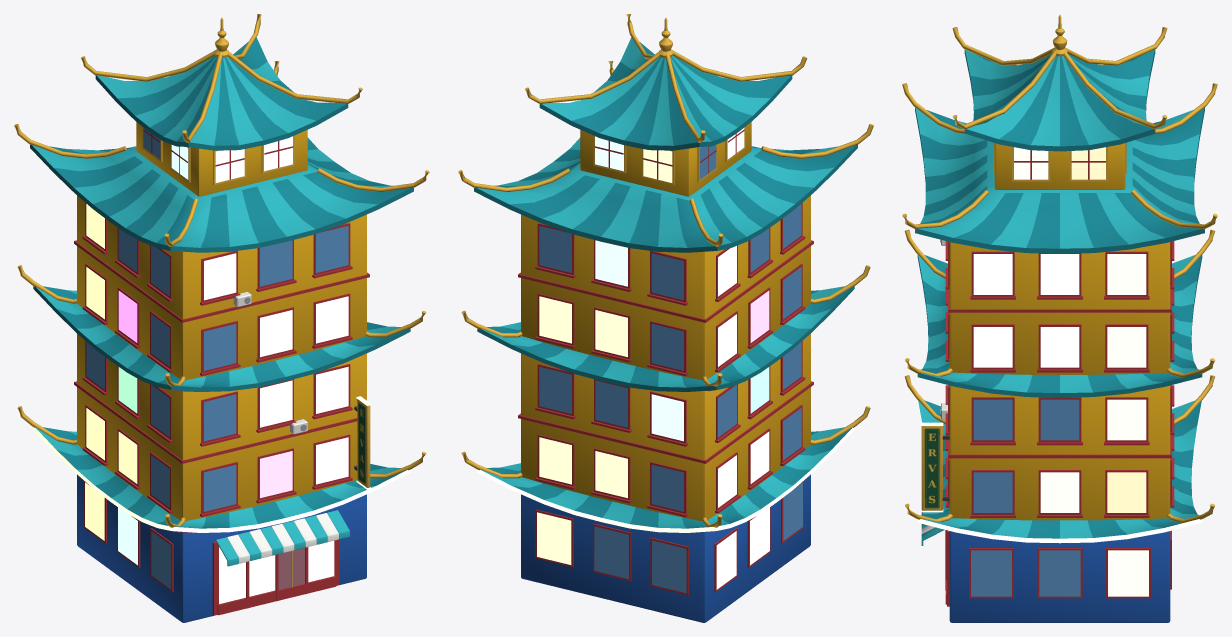
Rendered from predio_colorido_beirais_jade.glb.
3 renders of one model, left to right at view 1: azimuth 30°, elevation 25°; view 2: azimuth 150°, elevation 25°; view 3: azimuth 270°, elevation 25°, orthographic. The views are drawn at different scales.
Visible parts, largest first — view 1: predio_colorido_beirais_jade; view 2: predio_colorido_beirais_jade; view 3: predio_colorido_beirais_jade.
Boxes of the visible parts, x1,y1,x2,y2 form: predio_colorido_beirais_jade: (14, 14, 429, 622); predio_colorido_beirais_jade: (458, 14, 873, 622); predio_colorido_beirais_jade: (902, 14, 1217, 622).
Bounding box in the file's own units: 12.56 × 24.78 × 12.58.
Materials: 10 (2 with a texture image).
